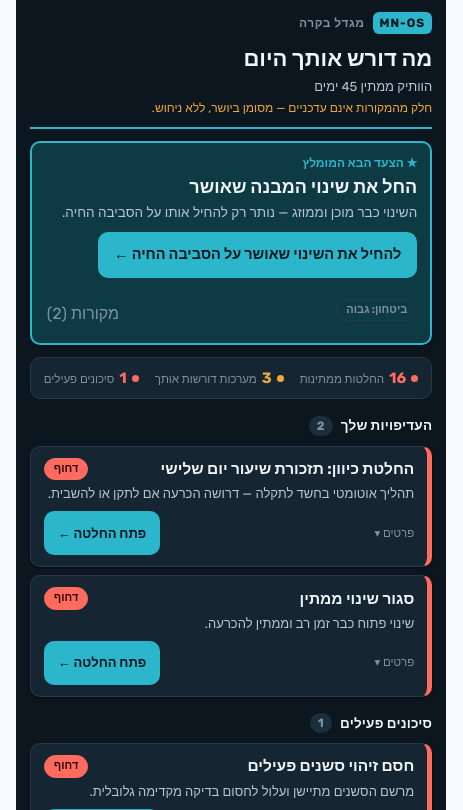
DecisionInboxView › renders priority cards compact (no recommendation/detail) until tapped
The image size is (463, 810).
Click the button with test id "decision-card" that starts with "החלטת כיוון: תזכורת שיעור יום שלישי" at point(287, 469), box [30,446,432,567]
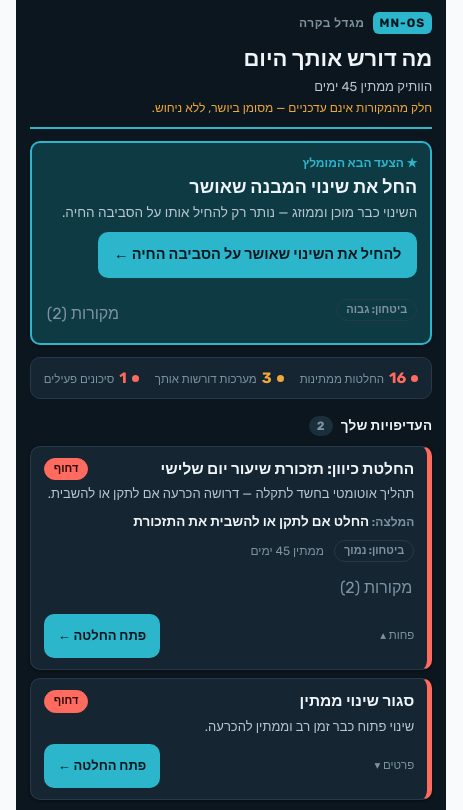
Result: the element with test id "card-recommendation" is shown at [133,513,414,529]
